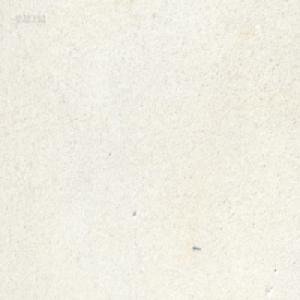Nail: (192, 244, 201, 251)
